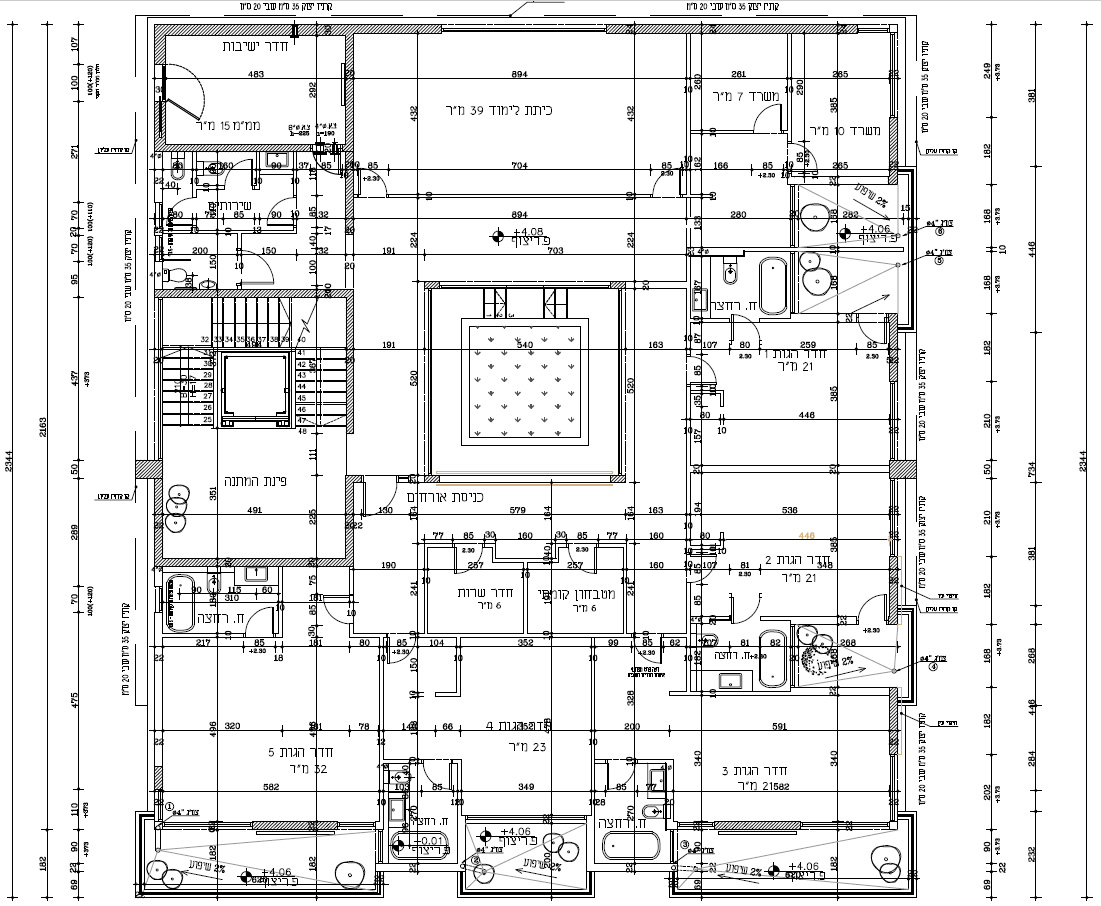door: (750, 99, 784, 129), (649, 164, 683, 194), (853, 593, 887, 617)
wall: (154, 23, 440, 33), (606, 23, 857, 34), (154, 290, 354, 297), (154, 559, 354, 566)
window: (441, 24, 607, 36), (154, 298, 163, 461), (465, 815, 587, 824), (890, 382, 898, 460), (800, 822, 889, 829), (889, 479, 897, 556), (889, 754, 898, 821)
